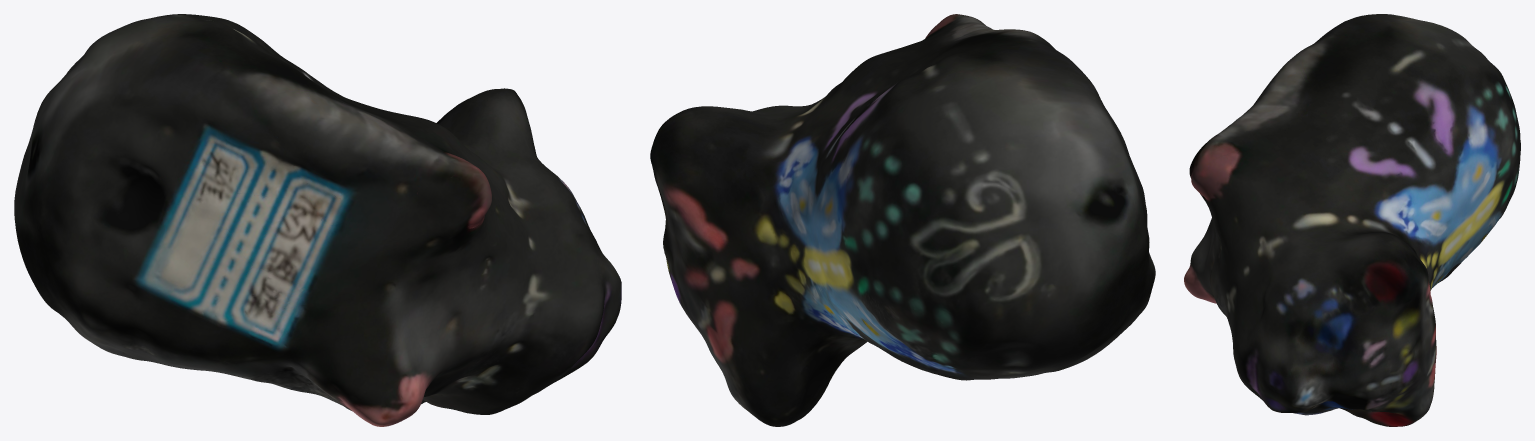
The picture shows the model from 3 angles, left to right: view 1: azimuth 30°, elevation 25°; view 2: azimuth 150°, elevation 25°; view 3: azimuth 270°, elevation 25°; orthographic projection. The views are drawn at different scales.
Bounding box in the file's own units: 0.6602 × 0.5139 × 0.4923.
Materials: 1 (1 with a texture image).
